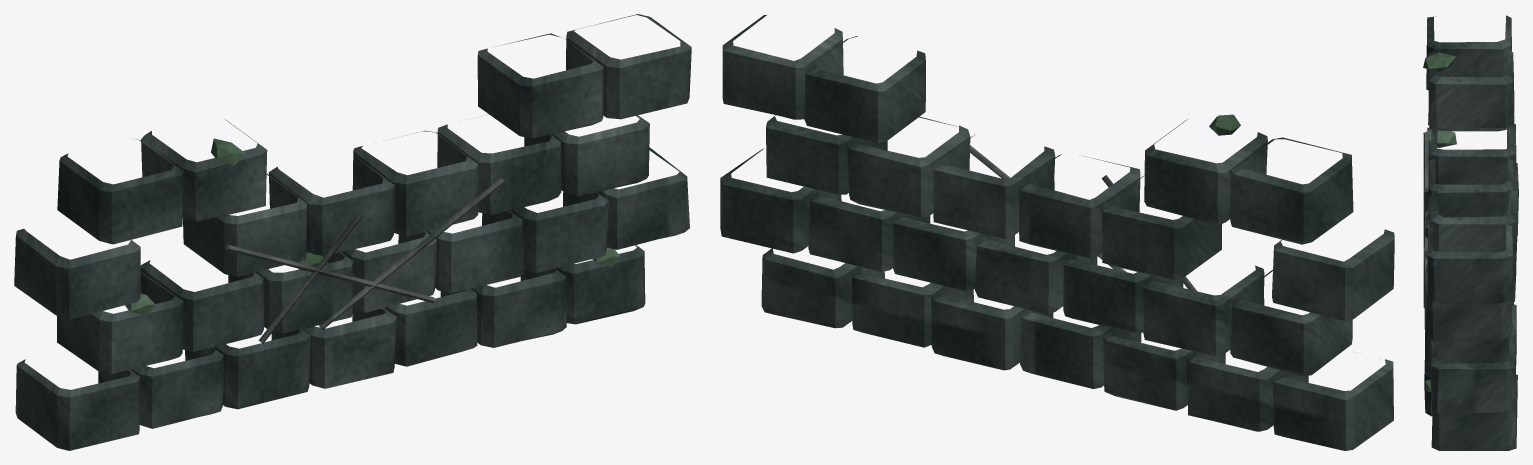
Rendered from 0328_wall_section_03.glb.
3 renders of one model, left to right at view 1: azimuth 30°, elevation 25°; view 2: azimuth 150°, elevation 25°; view 3: azimuth 270°, elevation 25°, orthographic. The views are drawn at different scales.
Visible parts, largest first — view 1: stone_dark, iron, moss; view 2: stone_dark; view 3: stone_dark, moss, iron.
Part boxes in pixels (box(x1,y1,x2,y2)): stone_dark: box(14, 14, 691, 450); iron: box(225, 177, 504, 343); moss: box(125, 138, 620, 315); stone_dark: box(720, 15, 1394, 450); stone_dark: box(1424, 15, 1518, 450); moss: box(1423, 52, 1456, 392); iron: box(1423, 133, 1428, 307).
Bounding box in the file's own units: 3.85 × 1.55 × 0.5969.
Materials: 3 (3 with a texture image).
